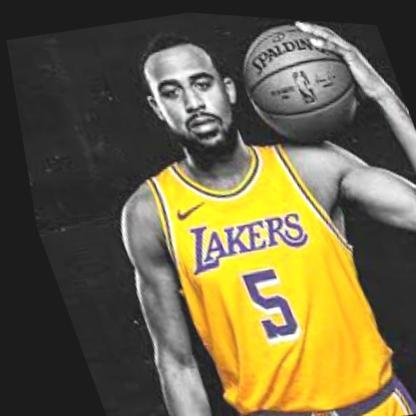basketball: (223, 12, 371, 149)
